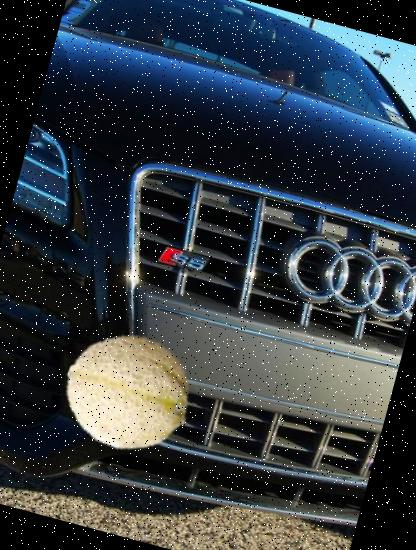Cantaloupe: (51, 314, 208, 471)
